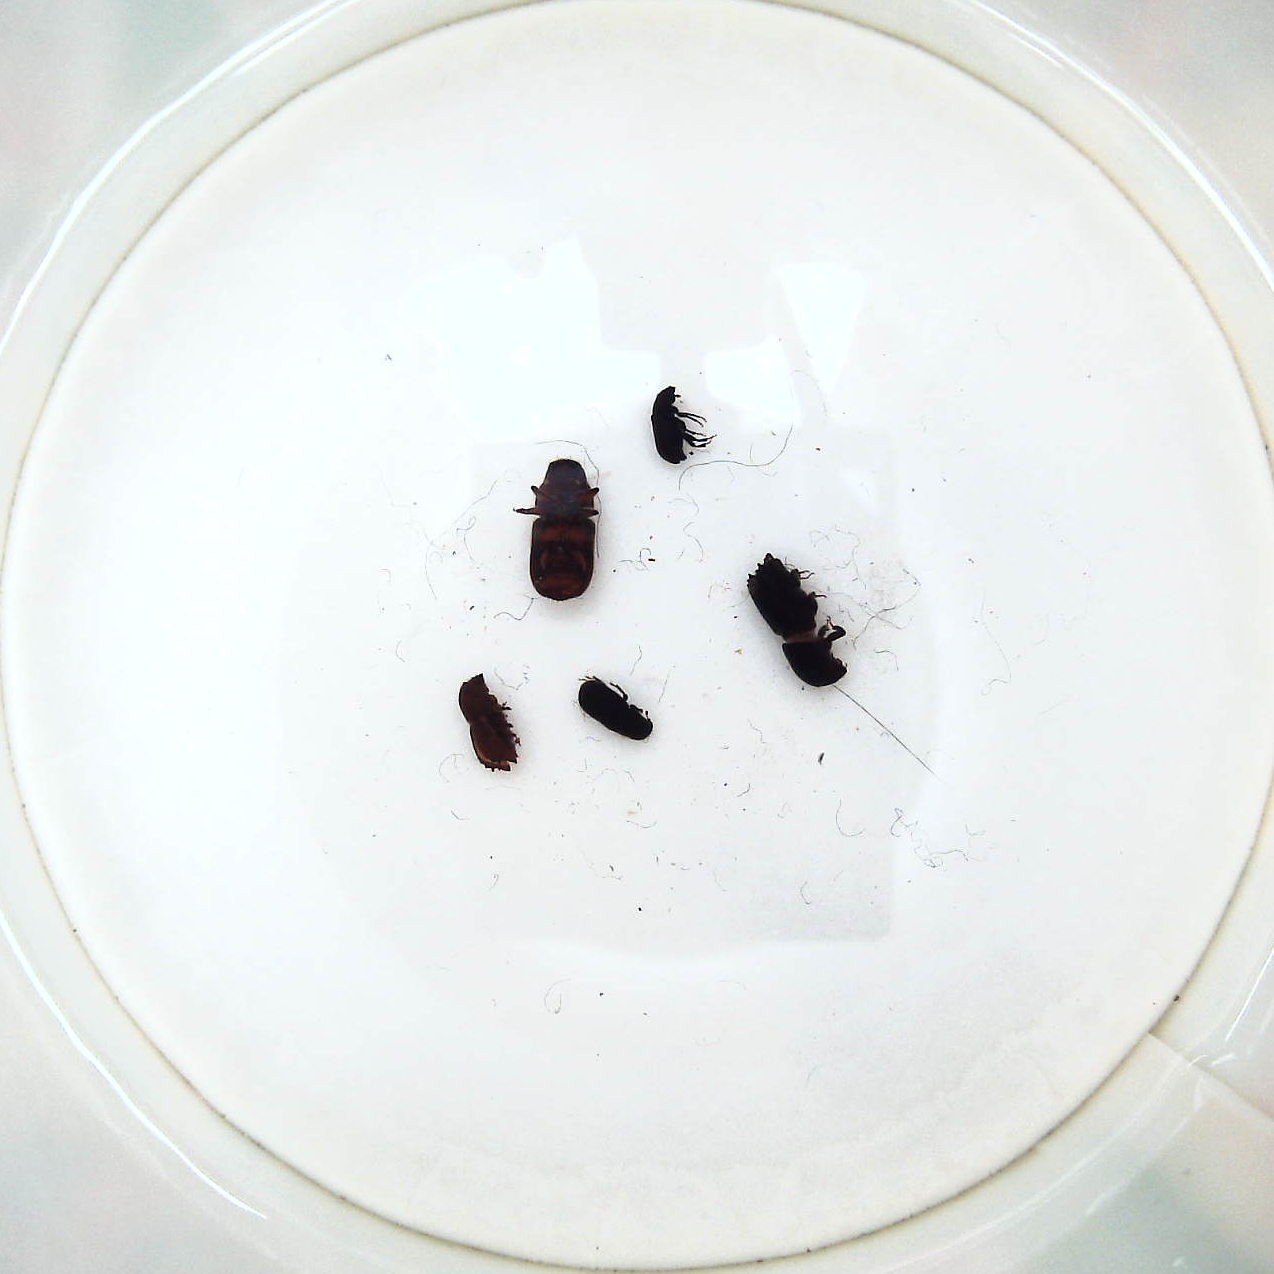Boerner: (742, 548, 852, 694)
Leconte: (514, 455, 610, 604)
armandi: (574, 670, 657, 748)
coleoptera: (645, 380, 715, 470)
linnaeus: (452, 672, 523, 775)
